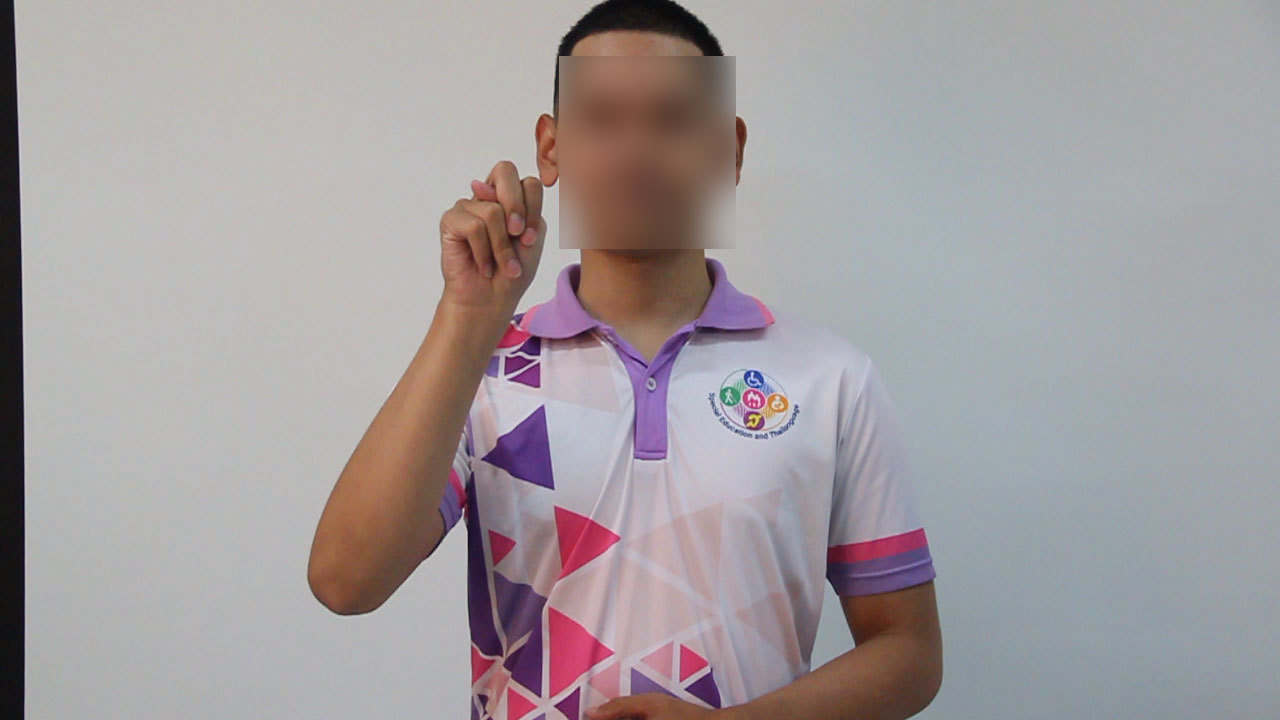nor: (419, 155, 565, 305)
